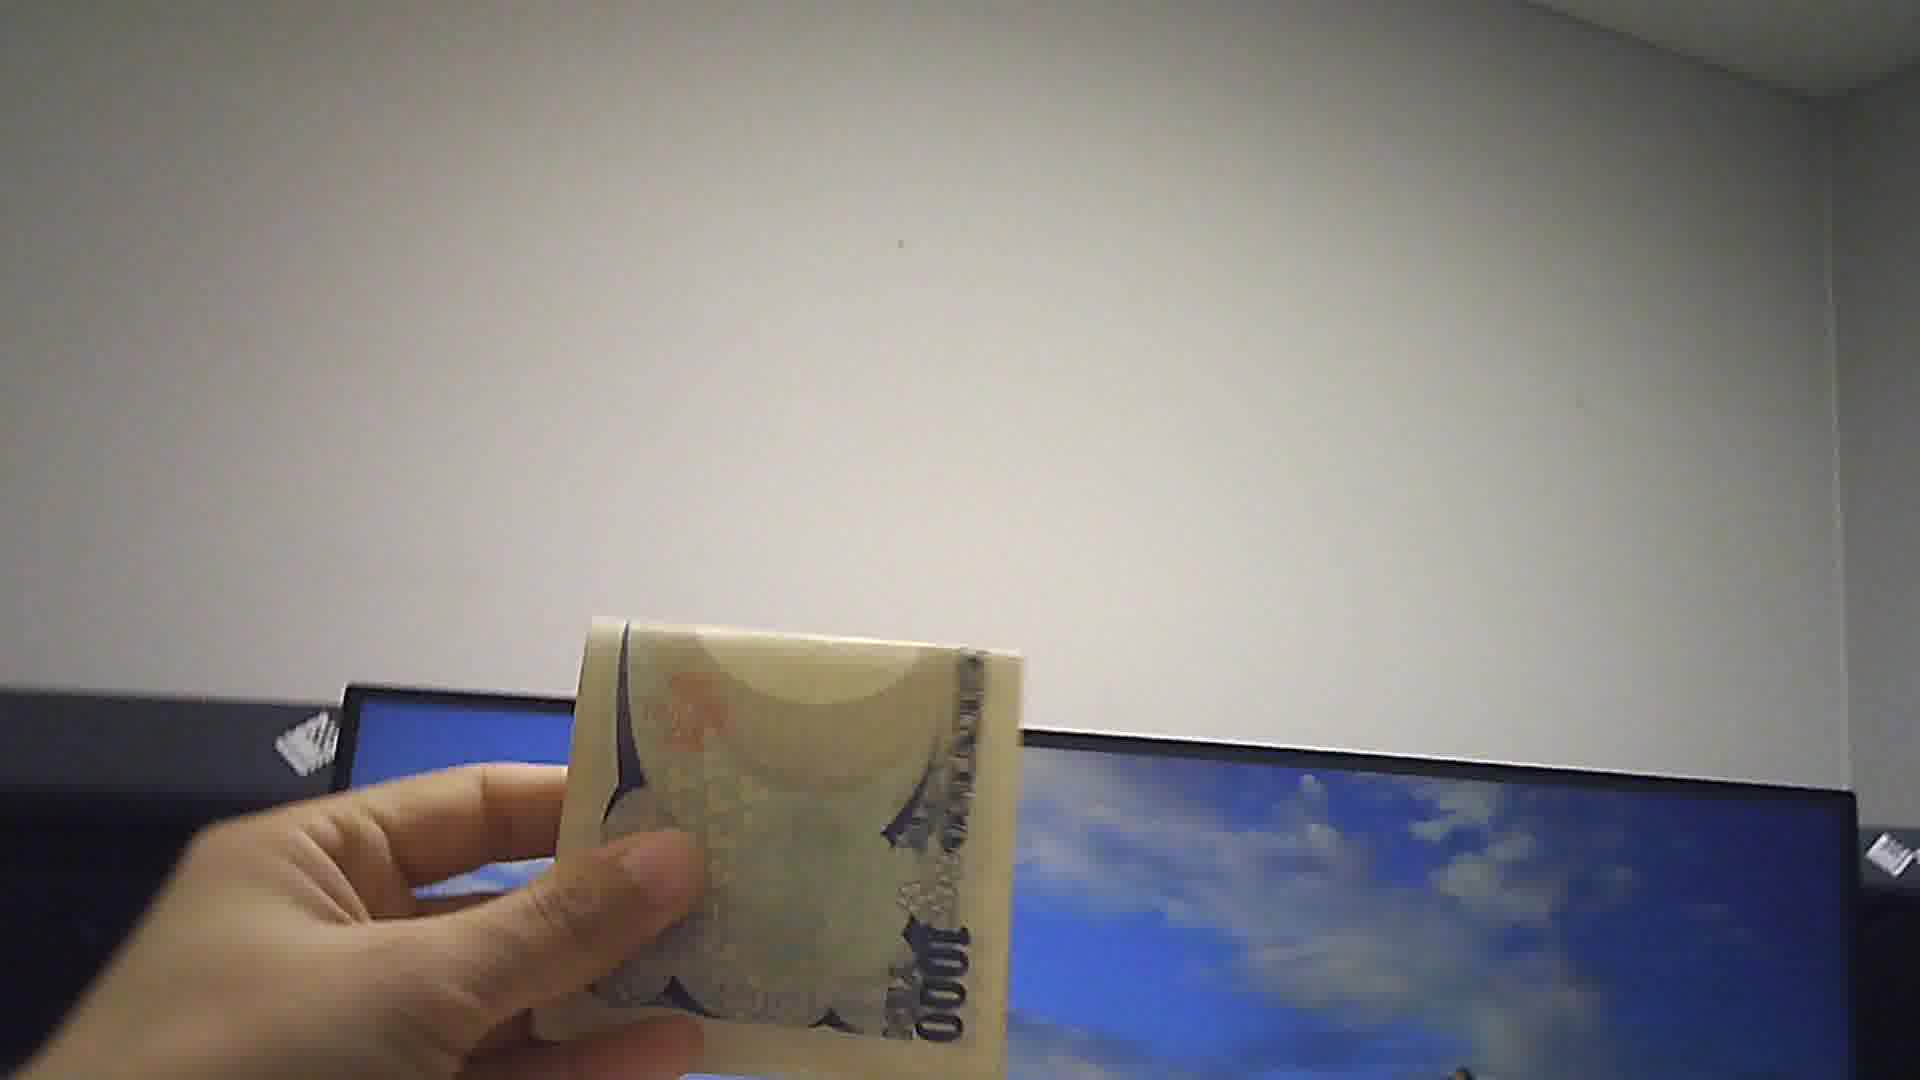1,000 Yen: (547, 611, 1011, 1079)
